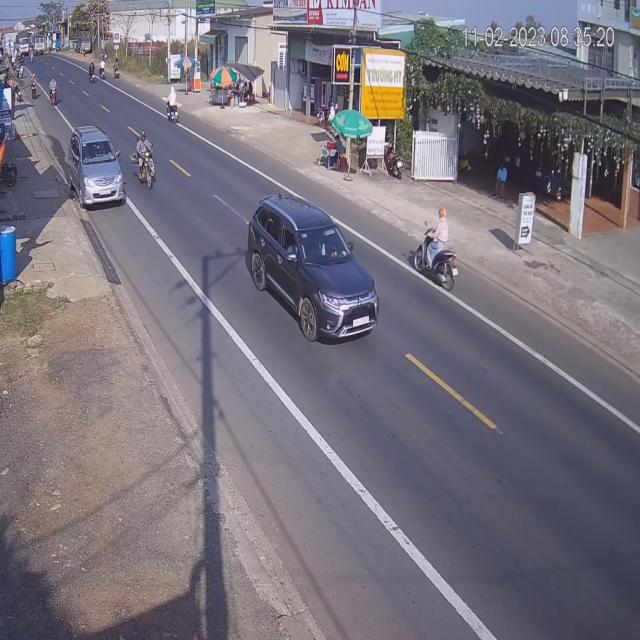car: (244, 194, 377, 345), (67, 128, 125, 209)
motorbike: (412, 210, 459, 294), (135, 128, 155, 192), (165, 88, 179, 125), (48, 77, 57, 108), (90, 58, 98, 83)
